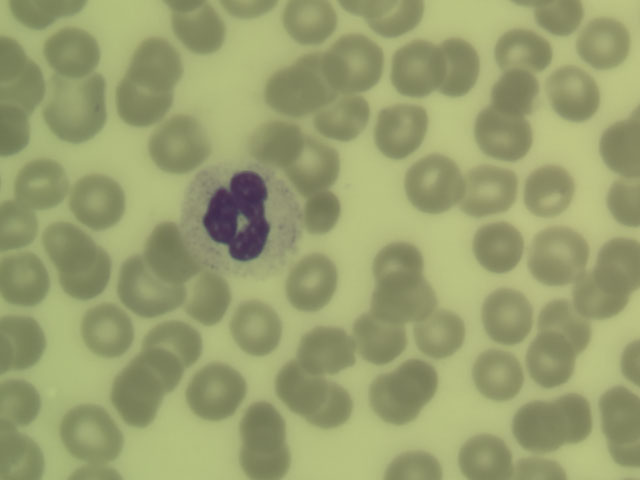RBC: (43, 79, 105, 137), (115, 268, 190, 314), (368, 275, 439, 317), (238, 428, 290, 480), (11, 158, 64, 209), (472, 222, 524, 273), (462, 166, 514, 217), (401, 159, 453, 210), (531, 229, 583, 280), (523, 162, 575, 213), (524, 333, 576, 384), (540, 301, 592, 352), (573, 268, 625, 319), (588, 236, 640, 287), (588, 179, 640, 230), (588, 122, 640, 173), (512, 402, 564, 453), (480, 289, 532, 340), (472, 349, 524, 400), (395, 360, 447, 411), (363, 373, 415, 424), (373, 104, 425, 155), (411, 307, 463, 358), (355, 314, 407, 365), (304, 375, 356, 426), (271, 364, 323, 415), (303, 323, 355, 374), (370, 237, 422, 288), (549, 68, 601, 119), (477, 108, 529, 159), (491, 62, 543, 113), (498, 21, 550, 72), (579, 17, 631, 68), (313, 89, 365, 140), (293, 190, 345, 241), (291, 140, 343, 191), (243, 117, 295, 168), (436, 41, 488, 92), (389, 43, 441, 94), (170, 5, 222, 56), (236, 397, 288, 448), (286, 257, 338, 308), (229, 304, 281, 355), (190, 367, 242, 418), (147, 322, 199, 373), (128, 347, 180, 398), (110, 373, 162, 424), (65, 410, 117, 461), (181, 273, 233, 324), (142, 224, 194, 275), (153, 119, 205, 170), (80, 306, 132, 357), (1, 428, 52, 480), (60, 245, 112, 296), (71, 176, 123, 227), (118, 73, 170, 124), (128, 37, 180, 88), (44, 25, 96, 76), (1, 377, 52, 428), (1, 318, 52, 369), (1, 253, 52, 304), (279, 1, 340, 42), (1, 58, 45, 110), (461, 435, 510, 480), (548, 393, 591, 442), (37, 220, 86, 262), (598, 386, 640, 434), (342, 45, 388, 88), (294, 54, 336, 98), (602, 420, 640, 468), (534, 1, 584, 37), (386, 448, 442, 480), (372, 1, 422, 36), (1, 200, 38, 246), (259, 71, 300, 112), (1, 104, 32, 156), (613, 333, 640, 387), (9, 1, 62, 26), (1, 31, 29, 78), (515, 456, 567, 480)
WBC: (188, 167, 296, 272)
